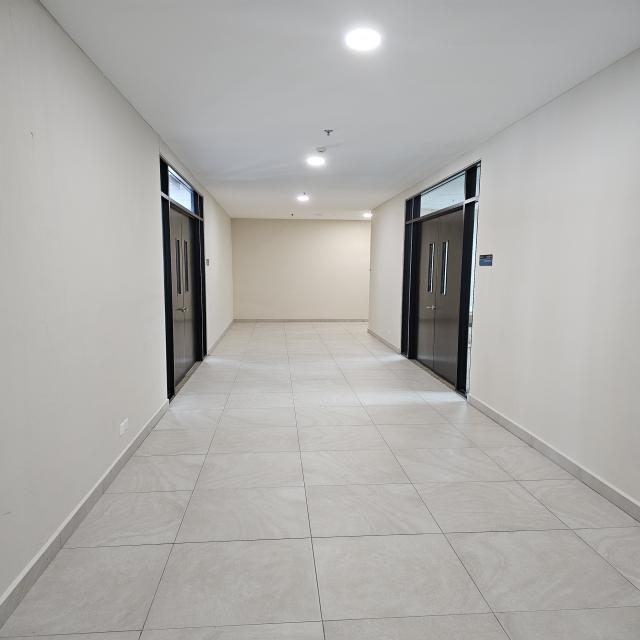door: (407, 202, 470, 392), (160, 198, 222, 390)
footpath: (104, 405, 582, 640)
